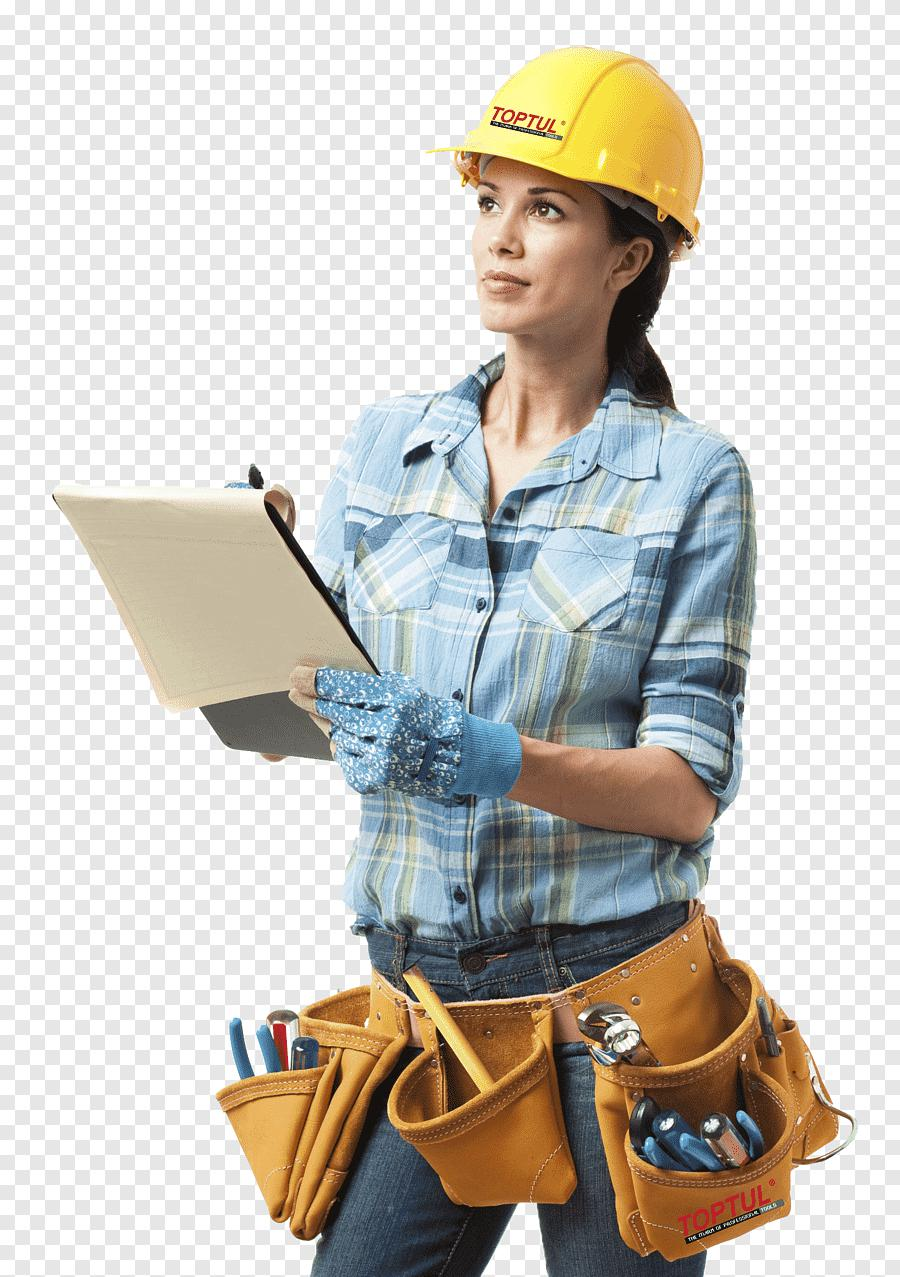hardhat: (426, 37, 707, 246)
worker: (43, 49, 847, 1277)
